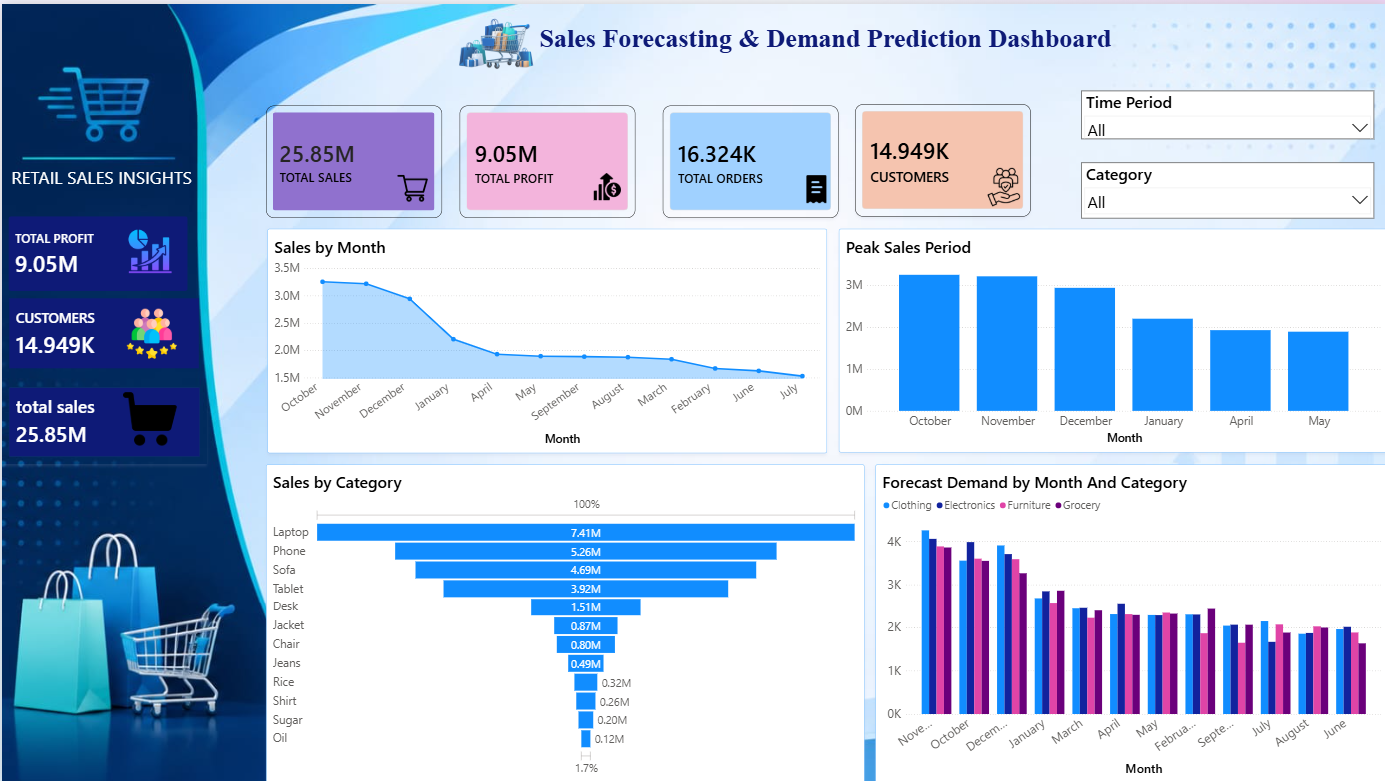

What the dashboard file says about the page in this screenshot:
{"tool":"powerbi","page":{"name":"Page 1","canvas":[2560,1440],"ordinal":0},"visuals":[{"type":"cardVisual","fields":{"Data":["Sum(Sheet.Sales)"]},"box":[487.3,187.6,324.8,207.2],"z":1000},{"type":"lineChart","title":"Sales by Month","fields":{"Category":["Sheet.Month"],"Y":["Sum(Sheet.Sales)"]},"box":[490.1,414.5,1033.3,414.5],"z":2000},{"type":"funnel","title":"Sales by Category","fields":{"Category":["Sheet.Product"],"Y":["Sum(Sheet.Sales)"]},"box":[487.5,850,1105,590],"z":3000},{"type":"clusteredColumnChart","title":"Peak Sales Period ","fields":{"Category":["Sheet.Month"],"Y":["Sum(Sheet.Sales)"]},"box":[1545,415,1015,412.5],"z":4000},{"type":"clusteredColumnChart","title":"Forecast Demand by Month And Category","fields":{"Category":["Sheet.Month"],"Series":["Sheet.Category"],"Y":["Sum(Sheet.Forecast_Demand)"]},"box":[1612.5,850,947.5,590],"z":5000},{"type":"textbox","box":[987.8,30.4,1278.8,83.6],"z":6000},{"type":"textbox","box":[12.7,291.3,355.6,58.8],"z":7000},{"type":"cardVisual","fields":{"Data":["Sum(Sheet.Profit)"]},"box":[845.7,187.6,324,207.2],"z":8000},{"type":"cardVisual","fields":{"Data":["Count(Sheet.Order_ID)"]},"box":[1220.8,187.4,324,207.2],"z":9000},{"type":"cardVisual","fields":{"Data":["Count(Sheet.Customer_ID)"]},"box":[1575.4,184.9,324,207.2],"z":10000},{"type":"slicer","fields":{"Values":["Sheet.Category"]},"box":[1993.7,291.4,540.5,103.6],"z":11000},{"type":"slicer","fields":{"Values":["Sheet.Order_Date"]},"box":[1993.7,159.2,540.5,89.6],"z":12000},{"type":"cardVisual","fields":{"Data":["Sheet.total sales"]},"box":[0,694,378,154],"z":13000},{"type":"cardVisual","fields":{"Data":["Sum(Sheet.Profit)"]},"box":[0,379.9,355.6,162.4],"z":14000},{"type":"cardVisual","fields":{"Data":["Count(Sheet.Customer_ID)"]},"box":[0,529.3,377.7,156.5],"z":17000},{"type":"image","box":[227.9,562.3,98,92.4],"z":18000},{"type":"image","box":[192.5,415.4,161.9,83.6],"z":19000},{"type":"image","box":[838.3,0,148.4,148.4],"z":19001},{"type":"image","box":[730.9,291.2,56,100.8],"z":19002},{"type":"image","box":[220.4,706.6,109.2,120.4],"z":19003},{"type":"image","box":[1800.8,301.4,98.8,70.9],"z":19004},{"type":"image","box":[1459,313.6,86.8,58.8],"z":19005},{"type":"image","box":[1092.1,282.8,50.4,109.2],"z":19006}]}

Visuals, with their boxes in screenshot pixels (x1, y1, x2, y2), scaled from the page's 2560x1440 canvas onto the 1385x781 screenshot:
cardVisual - Sum(Sheet.Sales): 264:102:439:214
"Sales by Month" lineChart: 265:225:824:450
"Sales by Category" funnel: 264:461:862:780
"Peak Sales Period " clusteredColumnChart: 836:225:1384:449
"Forecast Demand by Month And Category" clusteredColumnChart: 872:461:1384:780
textbox: 534:16:1226:62
textbox: 7:158:199:190
cardVisual - Sum(Sheet.Profit): 458:102:633:214
cardVisual - Count(Sheet.Order_ID): 660:102:836:214
cardVisual - Count(Sheet.Customer_ID): 852:100:1028:213
slicer - Sheet.Category: 1079:158:1371:214
slicer - Sheet.Order_Date: 1079:86:1371:135
cardVisual - Sheet.total sales: 0:376:205:460
cardVisual - Sum(Sheet.Profit): 0:206:192:294
cardVisual - Count(Sheet.Customer_ID): 0:287:204:372
image: 123:305:176:355
image: 104:225:192:271
image: 454:0:534:80
image: 395:158:426:213
image: 119:383:178:449
image: 974:163:1028:202
image: 789:170:836:202
image: 591:153:618:213
